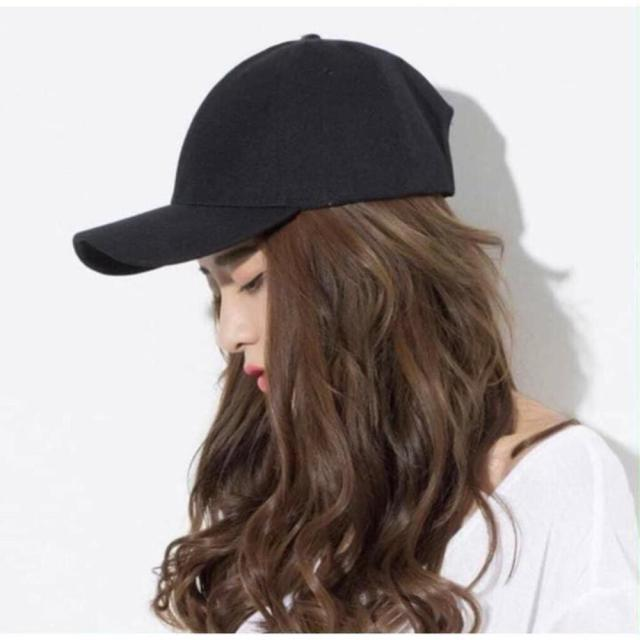Cap: (70, 28, 464, 277)
